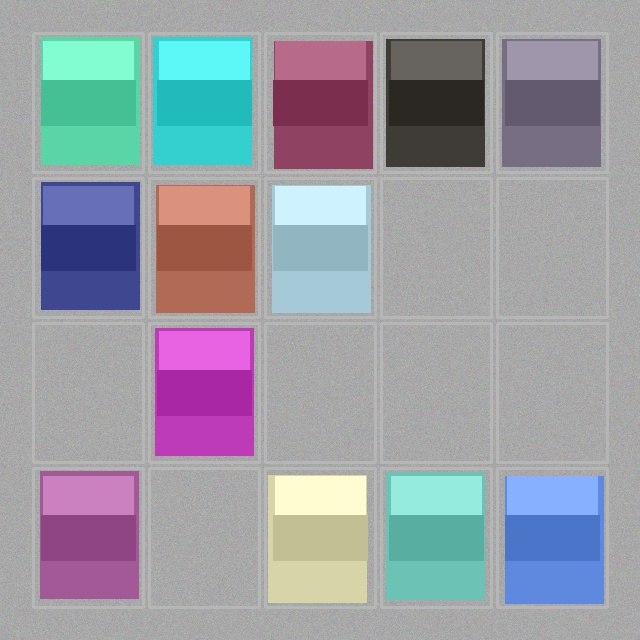space-empty: (383, 180, 489, 315), (499, 180, 605, 315), (35, 325, 141, 460), (267, 325, 373, 460), (383, 325, 489, 460), (499, 325, 605, 460), (151, 470, 257, 605)
space-occupied: (35, 35, 141, 170), (151, 35, 257, 170), (267, 35, 373, 170), (383, 35, 489, 170), (499, 35, 605, 170), (35, 180, 141, 315), (151, 180, 257, 315), (267, 180, 373, 315), (151, 325, 257, 460), (35, 470, 141, 605), (267, 470, 373, 605), (383, 470, 489, 605), (499, 470, 605, 605)
